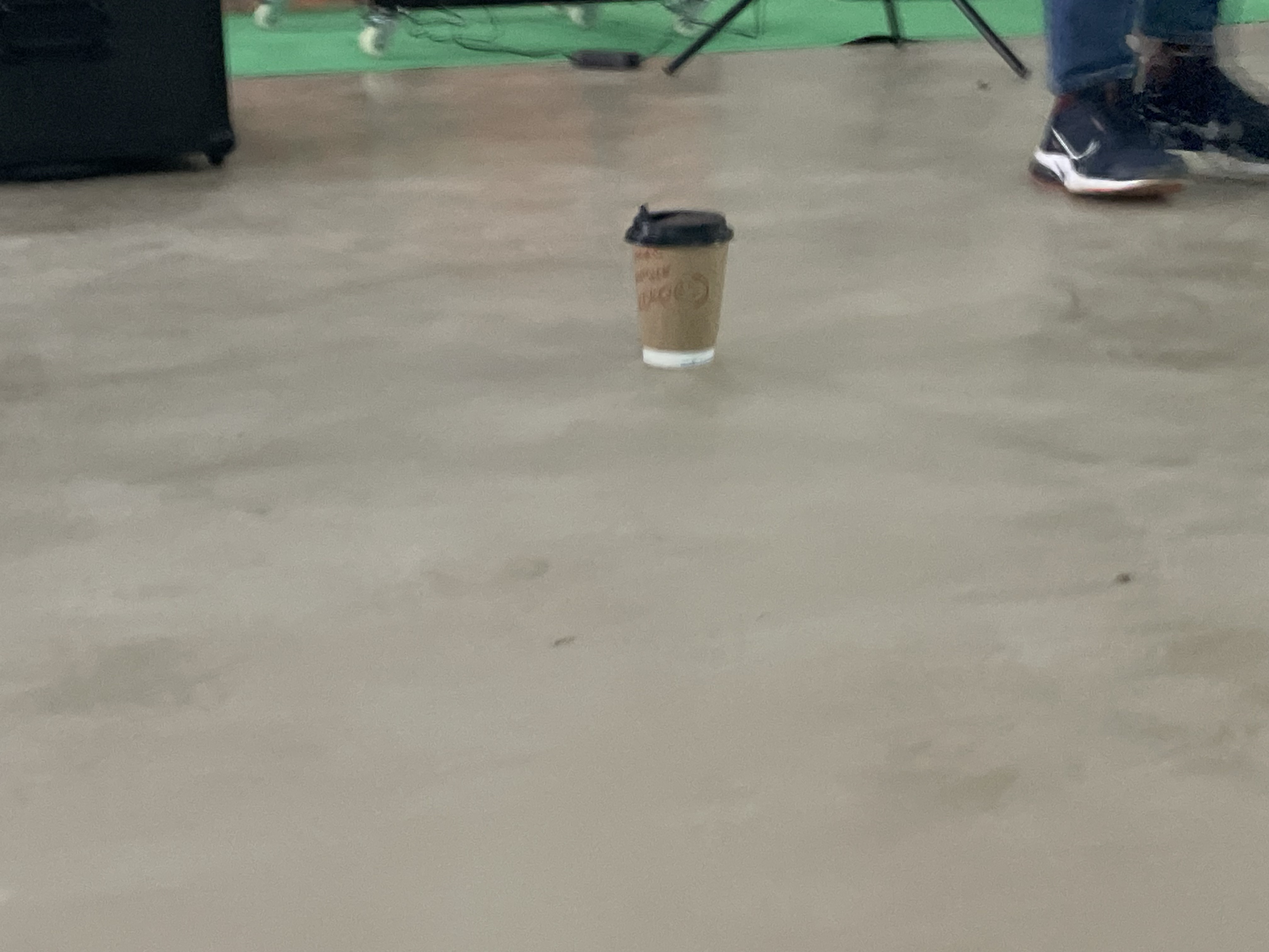cup: (624, 204, 734, 369)
